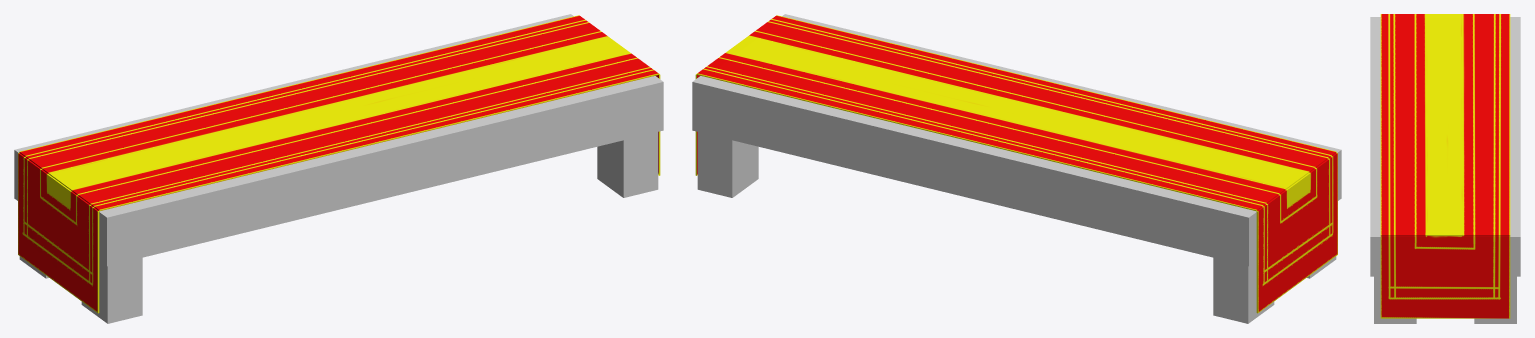
Rendered from Mesa.fbx.
The picture shows the model from 3 angles, left to right: view 1: azimuth 30°, elevation 25°; view 2: azimuth 150°, elevation 25°; view 3: azimuth 270°, elevation 25°; orthographic projection. The views are drawn at different scales.
Parts seen in each view (by area): view 1: Plane, Cube; view 2: Plane, Cube; view 3: Plane, Cube.
Boxes of the visible parts, x1,y1,x2,y2 form: Plane: (18,15,660,313); Cube: (14,14,663,323); Plane: (695,15,1337,313); Cube: (692,14,1341,323); Plane: (1380,14,1510,318); Cube: (1370,17,1520,323).
Bounding box in the file's own units: 700 × 133 × 200.
